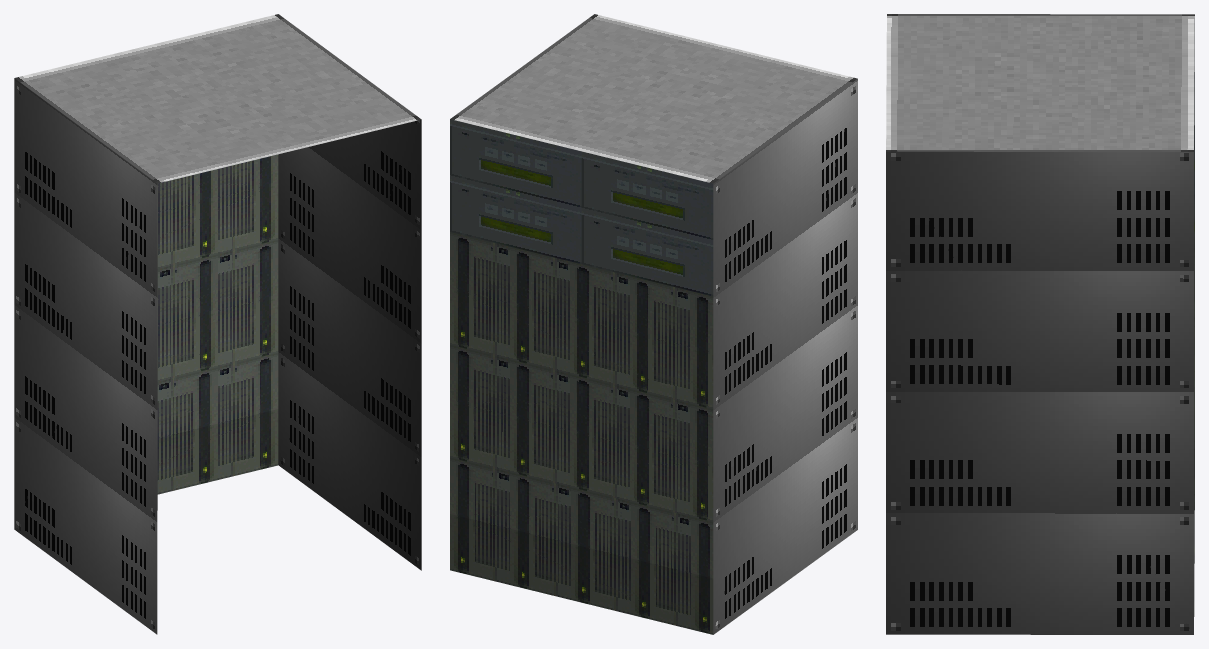
File: mainframe.glb
3 views of the same model, side by side, from view 1: azimuth 30°, elevation 25°; view 2: azimuth 150°, elevation 25°; view 3: azimuth 270°, elevation 25° (orthographic). The views are drawn at different scales.
Parts seen in each view (by area): view 1: Object; view 2: Object; view 3: Object.
Boxes of the visible parts, x1,y1,x2,y2 form: Object: [14, 14, 421, 634]; Object: [450, 14, 857, 634]; Object: [886, 14, 1194, 634].
Bounding box in the file's own units: 1.64 × 2.68 × 1.55.
Materials: 9 (9 with a texture image).
